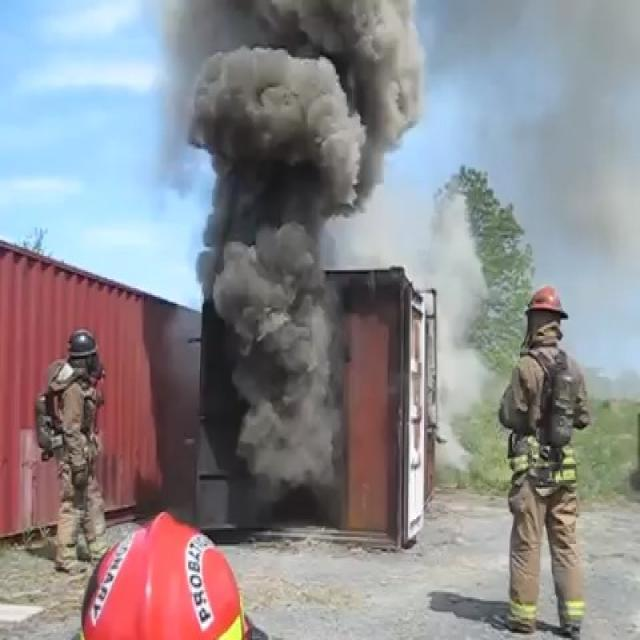Smoke: (204, 6, 358, 536)
